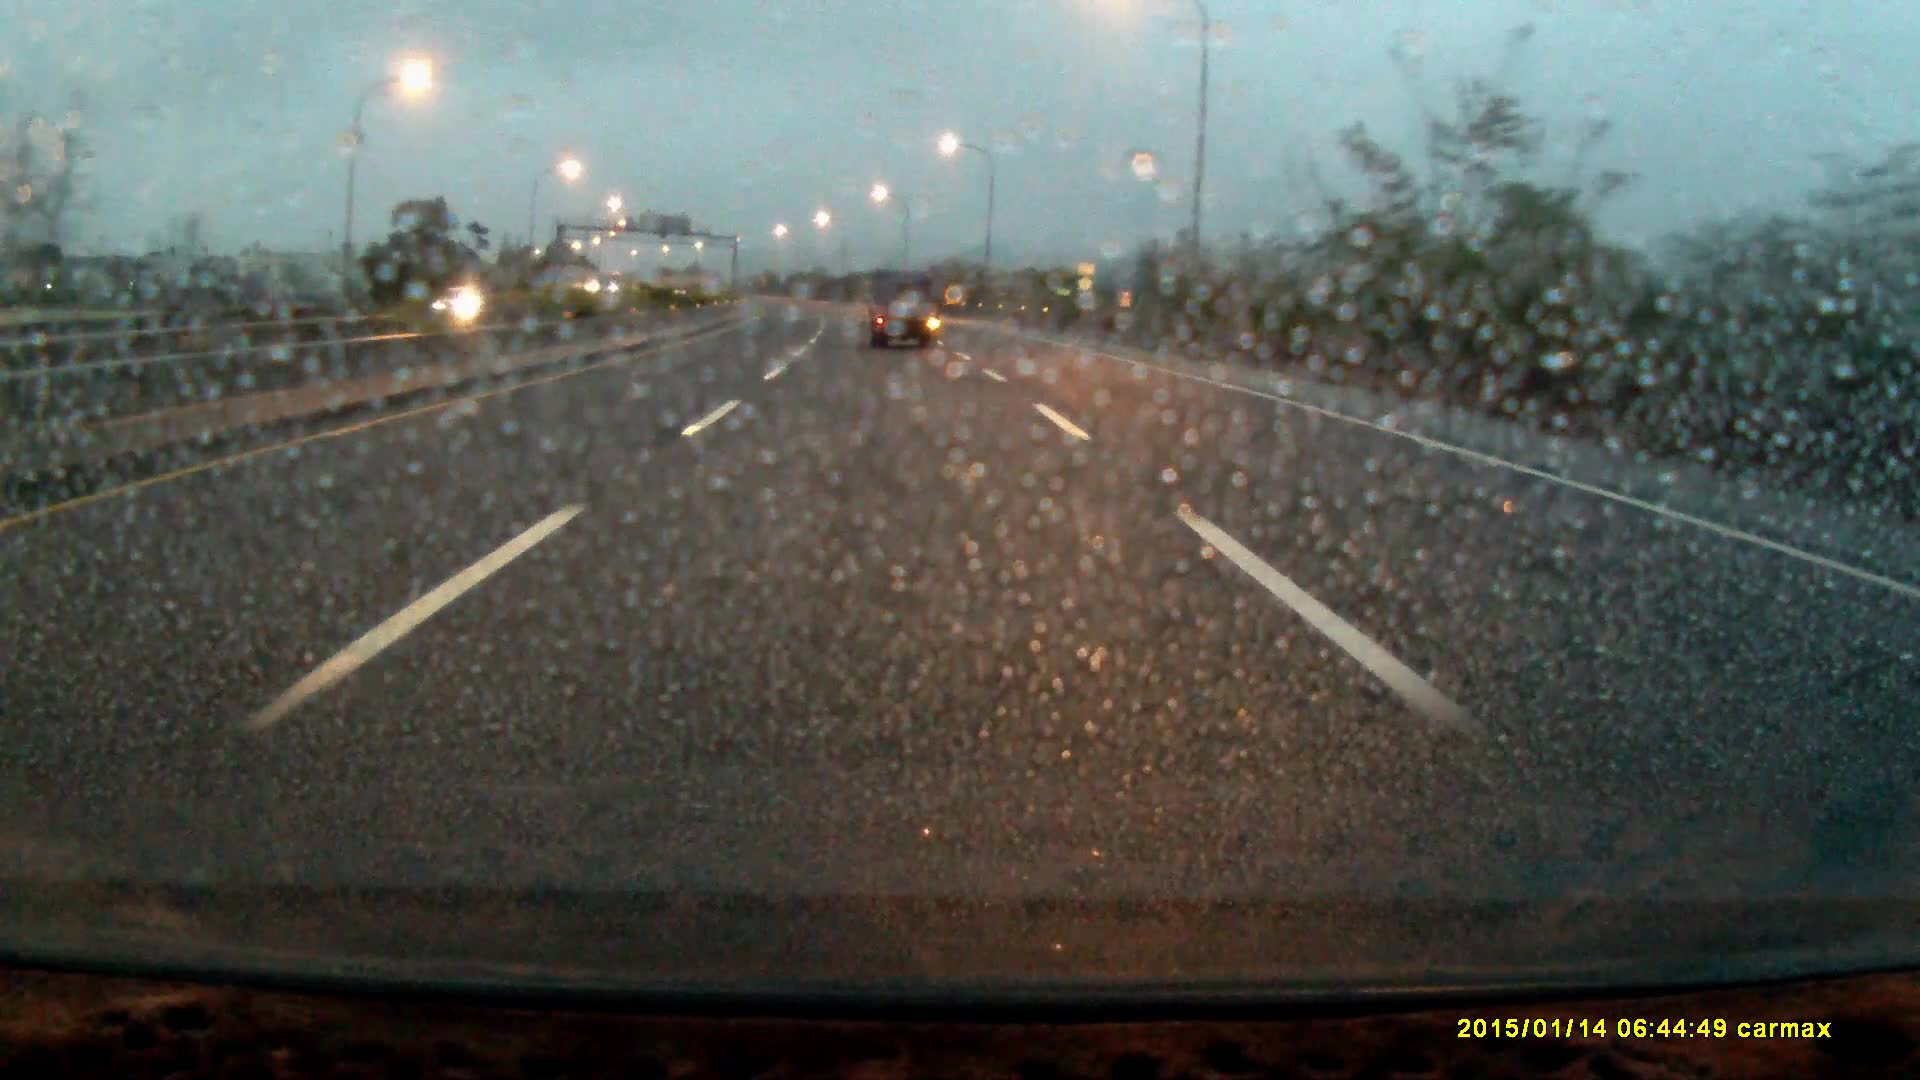vehicle: (866, 268, 938, 352), (427, 282, 496, 320)
